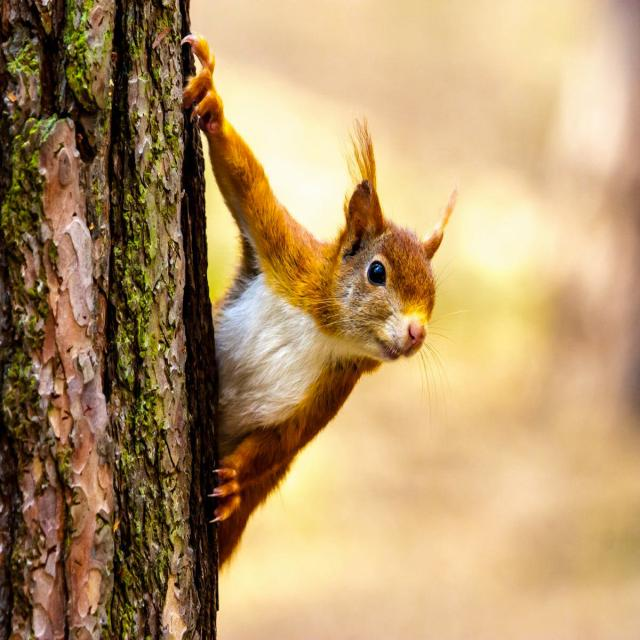squirrel: (182, 34, 455, 568)
